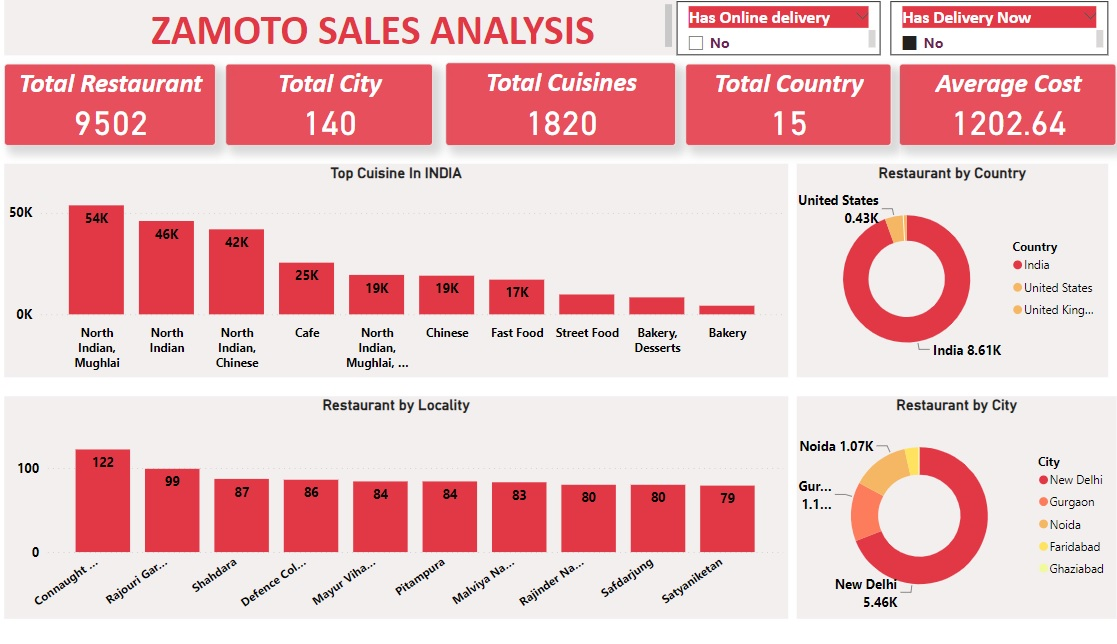

What the dashboard file says about the page in this screenshot:
{"tool":"powerbi","page":{"name":"Dashboard","canvas":[1280,720],"ordinal":1},"visuals":[{"type":"card","title":"Total Cuisines","fields":{"Values":["Count(Clean Zamoto Data.Cuisines)"]},"box":[511.7,71.7,263.3,95],"z":0},{"type":"card","title":"Total City","fields":{"Values":["Count(Clean Zamoto Data.City)"]},"box":[260,73.3,236.7,93.3],"z":1000},{"type":"card","title":"Average Cost","fields":{"Values":["Avg(Clean Zamoto Data.Average Cost for two)"]},"box":[1030,73.3,248.3,93.3],"z":2000},{"type":"card","title":"Total Country","fields":{"Values":["Count(Clean Zamoto Data.Country)"]},"box":[785,73.3,235,93.3],"z":3000},{"type":"card","title":"Total Restaurant","fields":{"Values":["CountNonNull(Clean Zamoto Data.Restaurant Name)"]},"box":[6.7,73.3,241.7,93.3],"z":4000},{"type":"clusteredColumnChart","title":"Restaurant by Locality","fields":{"Category":["Clean Zamoto Data.Locality"],"Y":["CountNonNull(Clean Zamoto Data.Restaurant Name)"]},"box":[7.1,452.9,895.7,254.3],"z":5000},{"type":"donutChart","title":"Restaurant by Country","fields":{"Category":["Clean Zamoto Data.Country"],"Y":["CountNonNull(Clean Zamoto Data.Restaurant Name)"]},"box":[912.9,187.1,355.7,244.3],"z":6000},{"type":"donutChart","title":"Restaurant by City","fields":{"Category":["Clean Zamoto Data.City"],"Y":["CountNonNull(Clean Zamoto Data.Restaurant Name)"]},"box":[912.9,452.9,365.7,254.3],"z":7000},{"type":"textbox","box":[6.5,0,768.5,63.1],"z":8000},{"type":"slicer","fields":{"Values":["Clean Zamoto Data.Has Online delivery"]},"box":[775,1.6,233,61.5],"z":9000},{"type":"slicer","fields":{"Values":["Clean Zamoto Data.Is delivering now"]},"box":[1019.3,1.6,249.2,61.5],"z":10000},{"type":"columnChart","title":"Top Cuisine In INDIA","fields":{"Category":["Clean Zamoto Data.Cuisines"],"Y":["Sum(Clean Zamoto Data.Votes)"]},"box":[7.1,187.1,895.7,244.3],"z":11000}]}

Visuals, with their boxes in screenshot pixels (x1, y1, x2, y2), scaled from the page's 1280x720 canvas onto the 1117x644 screenshot:
"Total Cuisines" card: locate(447, 64, 676, 149)
"Total City" card: locate(227, 66, 433, 149)
"Average Cost" card: locate(899, 66, 1116, 149)
"Total Country" card: locate(685, 66, 890, 149)
"Total Restaurant" card: locate(6, 66, 217, 149)
"Restaurant by Locality" clusteredColumnChart: locate(6, 405, 788, 633)
"Restaurant by Country" donutChart: locate(797, 167, 1107, 386)
"Restaurant by City" donutChart: locate(797, 405, 1116, 633)
textbox: locate(6, 0, 676, 56)
slicer - Clean Zamoto Data.Has Online delivery: locate(676, 1, 880, 56)
slicer - Clean Zamoto Data.Is delivering now: locate(889, 1, 1107, 56)
"Top Cuisine In INDIA" columnChart: locate(6, 167, 788, 386)
